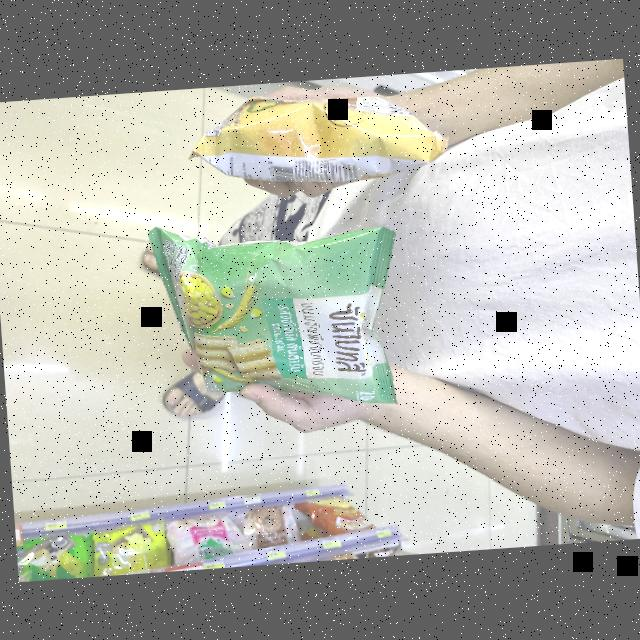snack_bag: (147, 202, 407, 418), (192, 79, 452, 208)
